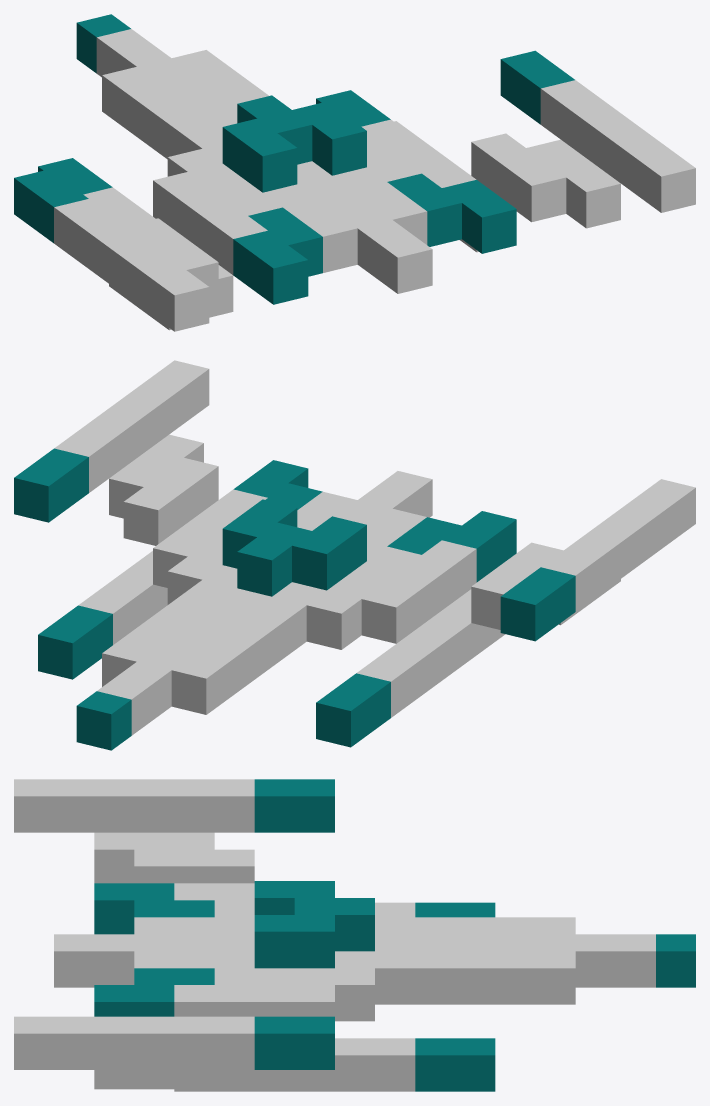
File: Uzusun.fbx
3 views of the same model, one above another, from view 1: azimuth 30°, elevation 25°; view 2: azimuth 150°, elevation 25°; view 3: azimuth 270°, elevation 25° (orthographic).
Parts seen in each view (by area): view 1: Box011, Box020, Box120, Box086, Box026, Box088, Box124, Box073, Box090, Box007, Box071, Box028 (+77 smaller); view 2: Box050, Box042, Box057, Box064, Box045, Box104, Box121, Box123, Box111, Box049, Box091, Box029 (+76 smaller); view 3: Box020, Box037, Box039, Box040, Box041, Box042, Box062, Box063, Box101, Box109, Box110, Box111 (+79 smaller).
Boxes of the visible parts, x1=… form: Box011: x1=253, y1=245, x2=308, y2=304; Box020: x1=377, y1=234, x2=432, y2=293; Box120: x1=242, y1=133, x2=297, y2=192; Box086: x1=511, y1=163, x2=566, y2=222; Box026: x1=154, y1=272, x2=209, y2=331; Box088: x1=566, y1=169, x2=620, y2=228; Box124: x1=312, y1=116, x2=366, y2=175; Box073: x1=462, y1=194, x2=516, y2=253; Box090: x1=641, y1=153, x2=695, y2=212; Box007: x1=303, y1=213, x2=357, y2=272; Box071: x1=407, y1=188, x2=461, y2=246; Box028: x1=154, y1=281, x2=209, y2=331; Box050: x1=306, y1=590, x2=361, y2=649; Box042: x1=500, y1=582, x2=555, y2=641; Box057: x1=171, y1=655, x2=226, y2=714; Box064: x1=76, y1=691, x2=131, y2=750; Box045: x1=361, y1=584, x2=416, y2=643; Box104: x1=14, y1=463, x2=68, y2=522; Box121: x1=292, y1=531, x2=346, y2=590; Box123: x1=237, y1=537, x2=291, y2=596; Box111: x1=38, y1=620, x2=92, y2=679; Box049: x1=316, y1=688, x2=370, y2=747; Box091: x1=123, y1=487, x2=178, y2=545; Box029: x1=471, y1=572, x2=523, y2=629; Box020: x1=54, y1=934, x2=94, y2=987; Box037: x1=134, y1=779, x2=174, y2=832; Box039: x1=174, y1=779, x2=214, y2=832; Box040: x1=214, y1=779, x2=254, y2=832; Box041: x1=254, y1=779, x2=294, y2=832; Box042: x1=294, y1=779, x2=334, y2=832; Box062: x1=575, y1=934, x2=615, y2=987; Box063: x1=615, y1=934, x2=655, y2=987; Box101: x1=174, y1=1016, x2=214, y2=1069; Box109: x1=375, y1=1038, x2=415, y2=1091; Box110: x1=415, y1=1038, x2=455, y2=1091; Box111: x1=455, y1=1038, x2=495, y2=1091.
Bounding box in the file's own units: 150 × 30 × 170.
